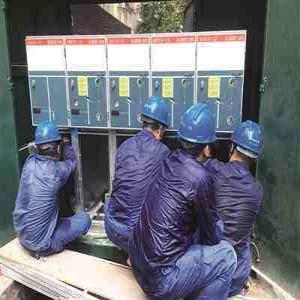blue: (177, 101, 216, 163), (228, 121, 265, 168), (142, 93, 171, 142), (35, 121, 65, 164)
